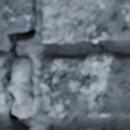brick: (40, 53, 129, 117), (41, 0, 129, 42), (0, 0, 34, 33), (0, 126, 29, 129), (79, 128, 96, 129)
broken_brick: (8, 54, 34, 118), (0, 50, 7, 75), (0, 85, 5, 113)
crack: (0, 2, 37, 127), (46, 56, 59, 98)
